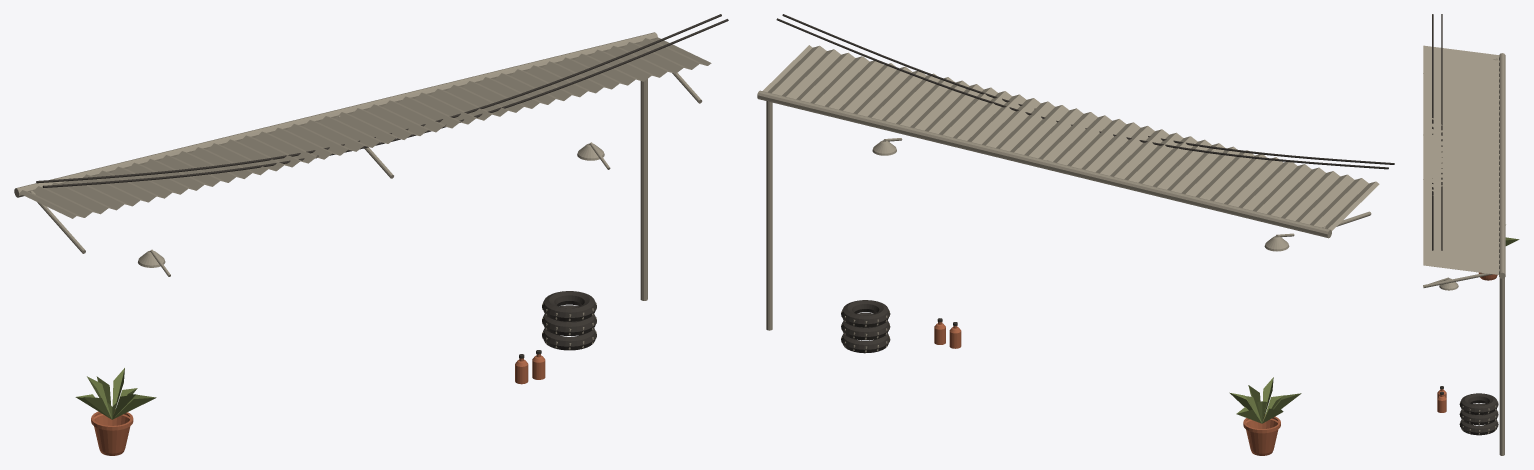
The model's file is garage-life.glb.
3 views of the same model, side by side, from view 1: azimuth 30°, elevation 25°; view 2: azimuth 150°, elevation 25°; view 3: azimuth 270°, elevation 25° (orthographic). The views are drawn at different scales.
Parts seen in each view (by area): view 1: R8_AgedGalvanized, R8_RubberAndCable, R8_Terracotta, R8_OliveLeaves; view 2: R8_AgedGalvanized, R8_RubberAndCable, R8_Terracotta, R8_OliveLeaves; view 3: R8_AgedGalvanized, R8_RubberAndCable, R8_Terracotta.
Boxes of the visible parts, x1,y1,x2,y2 form: R8_AgedGalvanized: [14, 32, 711, 349]; R8_RubberAndCable: [36, 14, 728, 358]; R8_Terracotta: [91, 354, 545, 455]; R8_OliveLeaves: [75, 368, 156, 419]; R8_AgedGalvanized: [757, 45, 1379, 352]; R8_RubberAndCable: [776, 14, 1394, 353]; R8_Terracotta: [934, 322, 1280, 455]; R8_OliveLeaves: [1229, 377, 1301, 423]; R8_AgedGalvanized: [1423, 45, 1505, 455]; R8_RubberAndCable: [1432, 14, 1498, 435]; R8_Terracotta: [1437, 272, 1497, 412].
Size of the model in its own units: 12.01 by 5.37 by 2.09.
